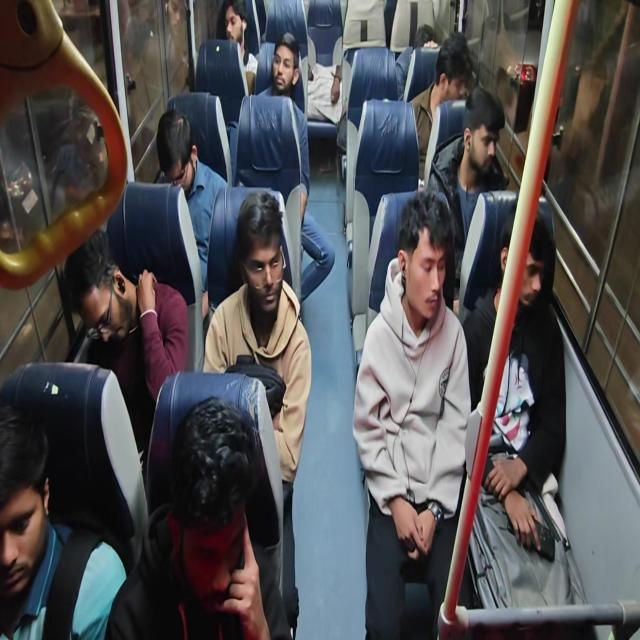person: (175, 391, 302, 640), (62, 231, 196, 412), (0, 387, 81, 640), (503, 210, 592, 429), (222, 215, 293, 394), (299, 28, 365, 160), (391, 215, 443, 364), (445, 88, 500, 204), (126, 113, 208, 178), (440, 32, 468, 112), (218, 8, 255, 63), (257, 43, 288, 106), (413, 13, 442, 58)
